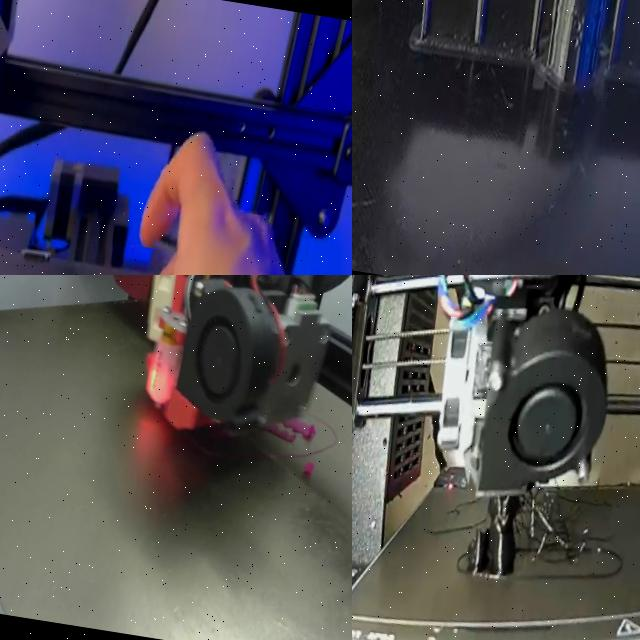spaghetti: (506, 472, 610, 578), (264, 418, 317, 442), (303, 462, 315, 477)
